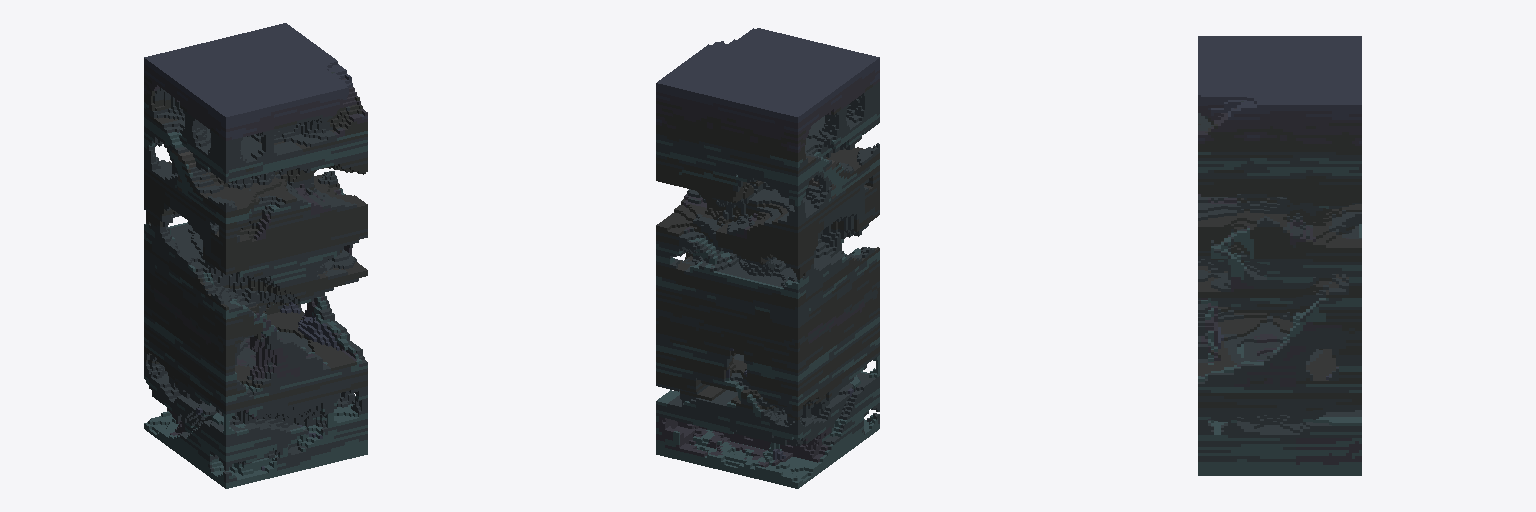
3 views of the same model, side by side, from view 1: azimuth 30°, elevation 25°; view 2: azimuth 150°, elevation 25°; view 3: azimuth 270°, elevation 25° (orthographic).
Visible parts, largest first — view 1: map_cdg_sculpted_v2; view 2: map_cdg_sculpted_v2; view 3: map_cdg_sculpted_v2.
Part boxes in pixels (left/top/right/bottom): map_cdg_sculpted_v2: left=144, top=23, right=367, bottom=488; map_cdg_sculpted_v2: left=656, top=28, right=879, bottom=488; map_cdg_sculpted_v2: left=1198, top=36, right=1361, bottom=475.
Bounding box in the file's own units: 50 × 125 × 50.
1 materials, 1 textured.